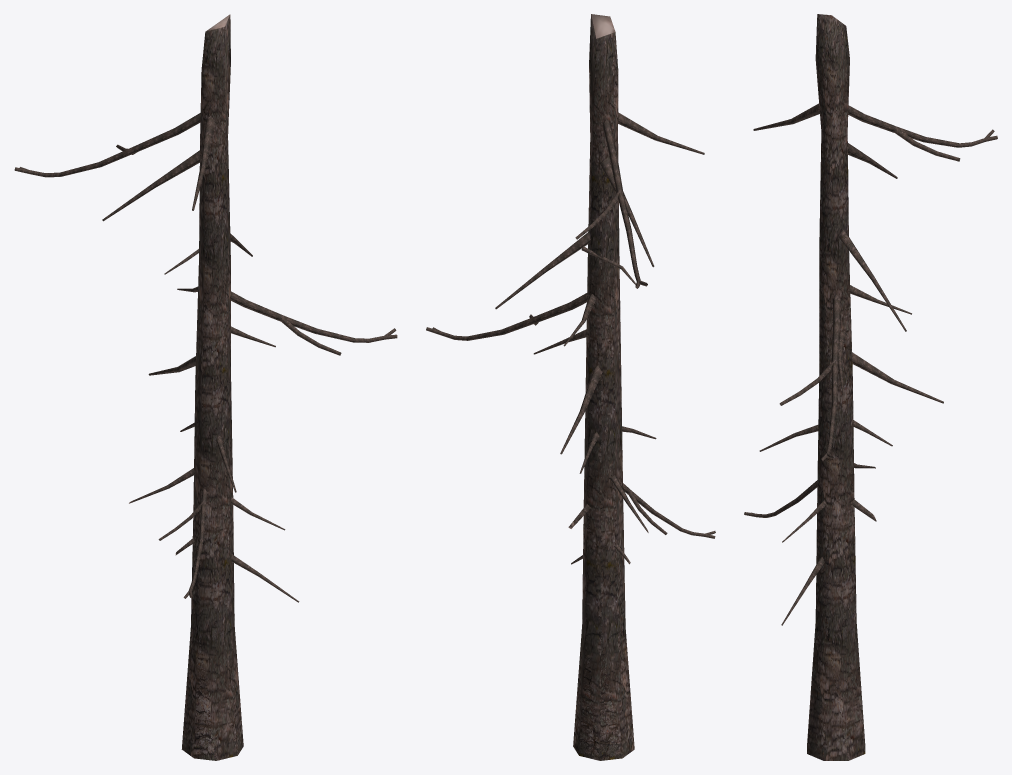
The model's file is tree_dead2.obj.
The picture shows the model from 3 angles, left to right: view 1: azimuth 30°, elevation 25°; view 2: azimuth 150°, elevation 25°; view 3: azimuth 270°, elevation 25°; orthographic projection.
Visible parts, largest first — view 1: Tree_Bark; view 2: Tree_Bark; view 3: Tree_Bark.
Part boxes in pixels (<box>): Tree_Bark: <box>14,14,397,760</box>; Tree_Bark: <box>426,14,715,760</box>; Tree_Bark: <box>744,14,997,760</box>.
Size of the model in its own units: 4.16 by 9.64 by 3.
1 material, 1 textured.
